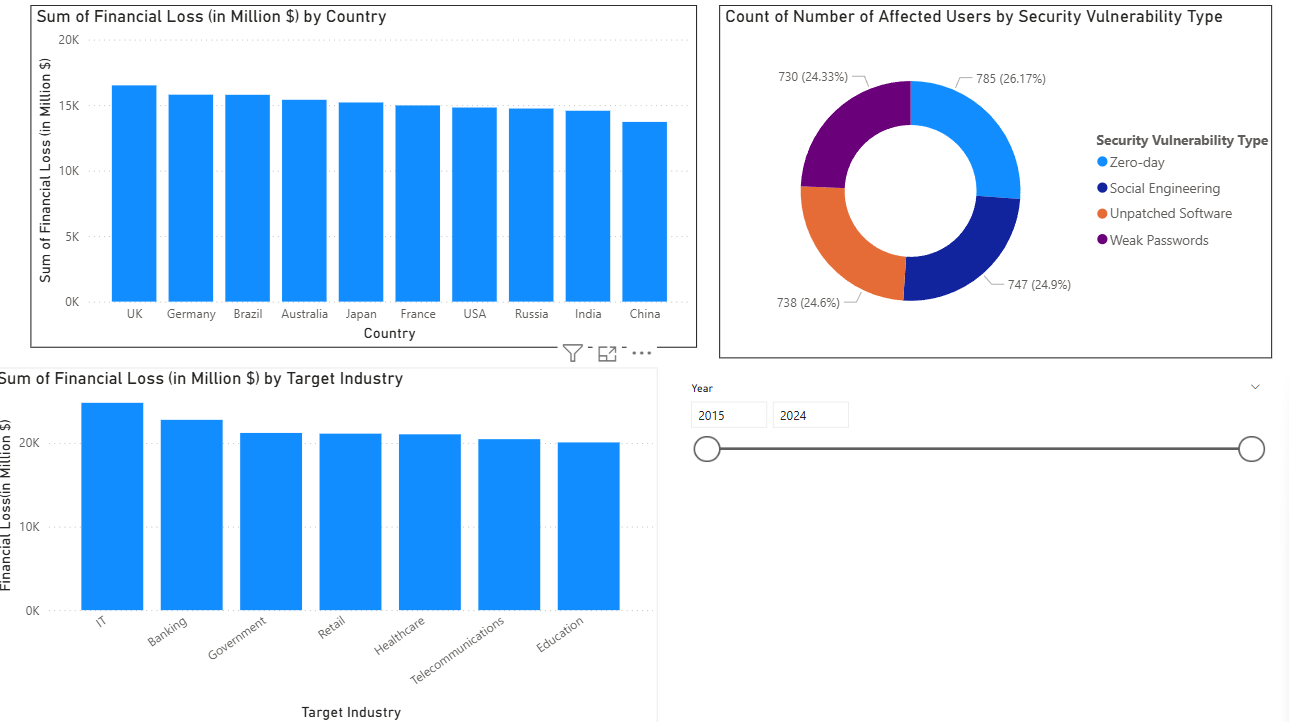

What the dashboard file says about the page in this screenshot:
{"tool":"powerbi","page":{"name":"Page 3","canvas":[1280,720],"ordinal":2},"visuals":[{"type":"columnChart","fields":{"Category":["Global_Cybersecurity_Threats_2015-2024.Country"],"Y":["Sum(Global_Cybersecurity_Threats_2015-2024.Financial Loss (in Million $))"]},"box":[46.1,15,652.1,335.4],"z":0},{"type":"donutChart","fields":{"Category":["Global_Cybersecurity_Threats_2015-2024.Security Vulnerability Type"],"Y":["CountNonNull(Global_Cybersecurity_Threats_2015-2024.Number of Affected Users)"]},"box":[720.7,15,541.1,345.4],"z":1000},{"type":"clusteredColumnChart","fields":{"Category":["Global_Cybersecurity_Threats_2015-2024.Target Industry"],"Y":["Sum(Global_Cybersecurity_Threats_2015-2024.Financial Loss (in Million $))"]},"box":[8.7,369.1,652.1,350.4],"z":1001},{"type":"slicer","fields":{"Values":["Global_Cybersecurity_Threats_2015-2024.Year"]},"box":[679.5,377.8,582.3,98.5],"z":1002}]}

Visuals, with their boxes in screenshot pixels (x1, y1, x2, y2), scaled from the page's 1280x720 canvas onto the 1289x722 screenshot:
columnChart - Global_Cybersecurity_Threats_2015-2024.Country x Sum(Global_Cybersecurity_Threats_2015-2024.Financial Loss (in Million $)): {"left": 46, "top": 15, "right": 703, "bottom": 351}
donutChart - Global_Cybersecurity_Threats_2015-2024.Security Vulnerability Type x CountNonNull(Global_Cybersecurity_Threats_2015-2024.Number of Affected Users): {"left": 726, "top": 15, "right": 1271, "bottom": 361}
clusteredColumnChart - Global_Cybersecurity_Threats_2015-2024.Target Industry x Sum(Global_Cybersecurity_Threats_2015-2024.Financial Loss (in Million $)): {"left": 9, "top": 370, "right": 665, "bottom": 721}
slicer - Global_Cybersecurity_Threats_2015-2024.Year: {"left": 684, "top": 379, "right": 1271, "bottom": 478}
